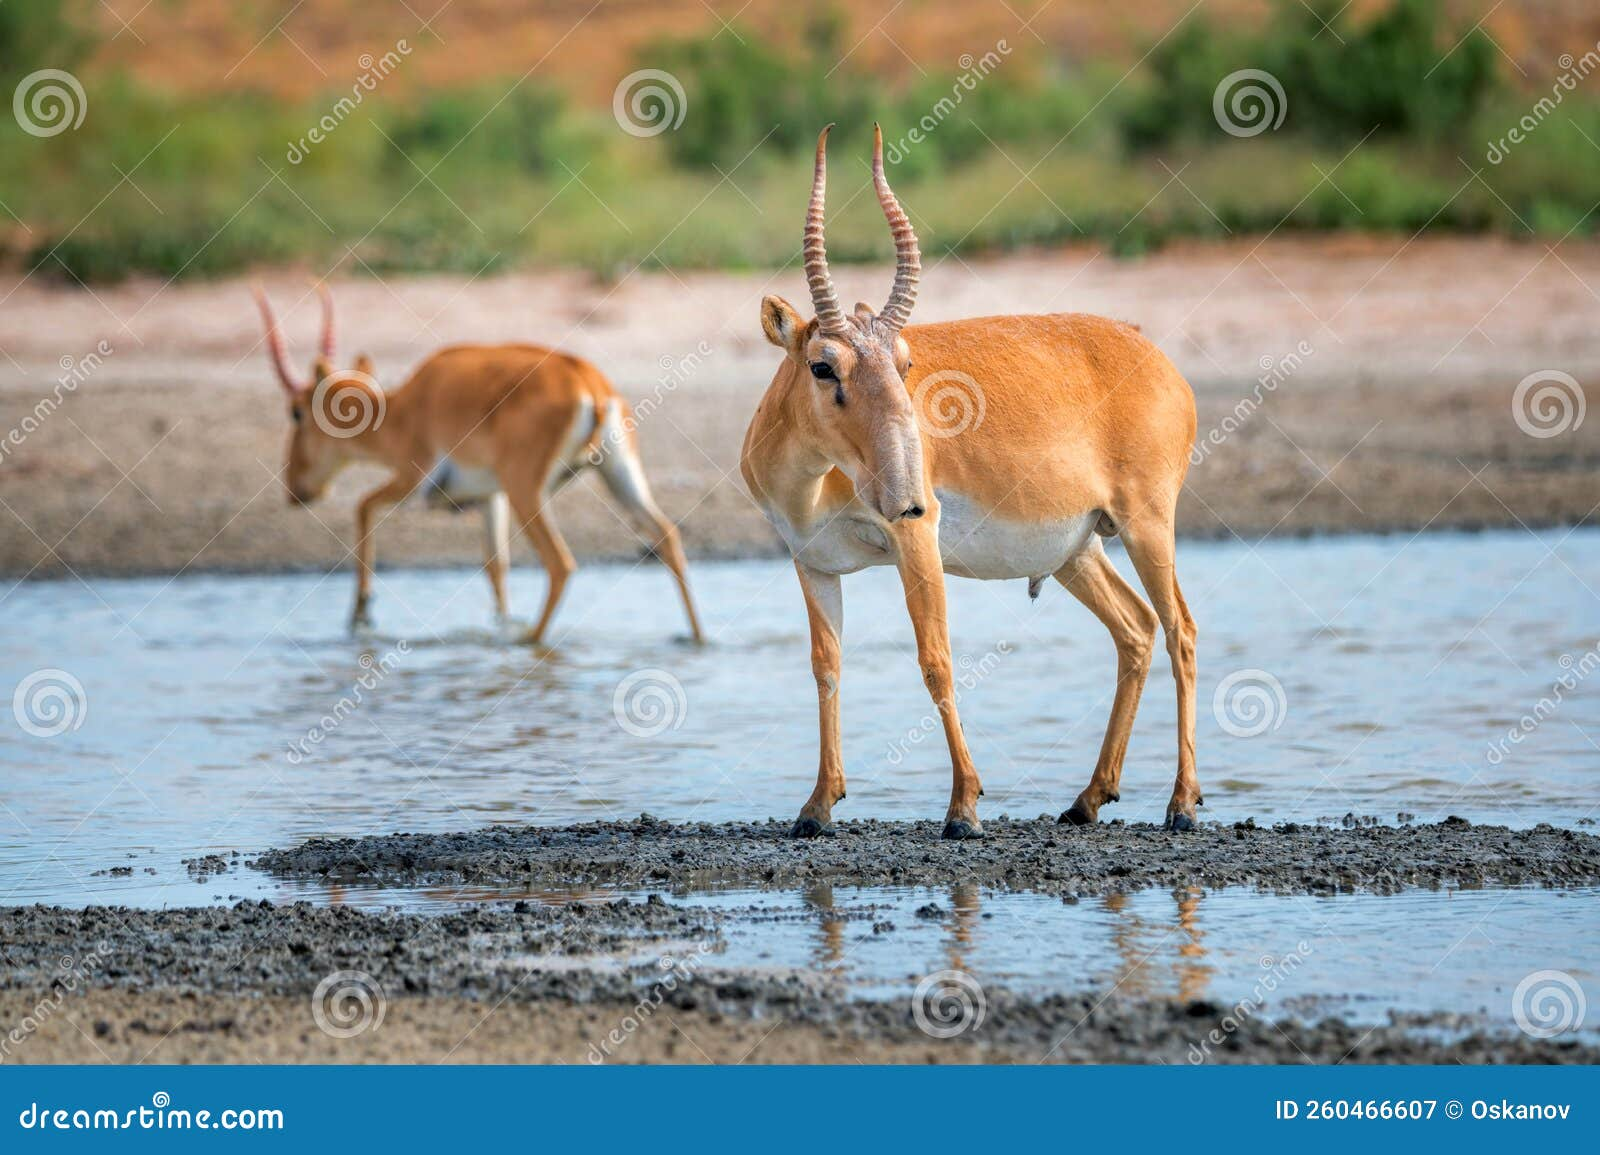saiga: (739, 120, 1232, 845), (240, 278, 717, 658)
